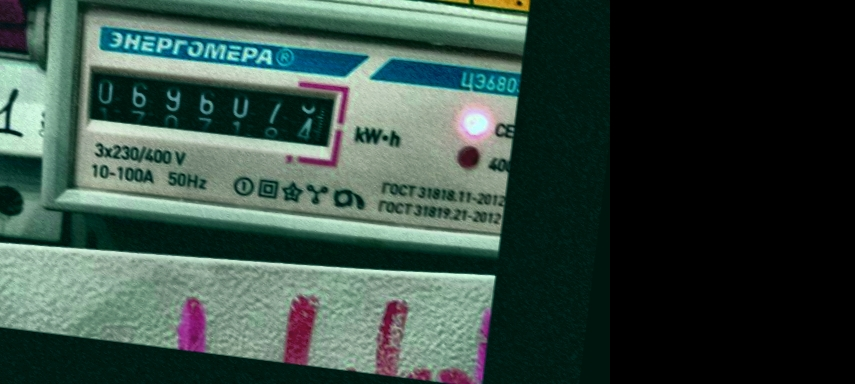0: (229, 89, 251, 121), (95, 76, 115, 106)
4: (294, 112, 314, 143)
6: (196, 86, 217, 117), (129, 79, 149, 109)
7: (262, 94, 285, 127)
9: (161, 84, 183, 114)
screen: (69, 50, 354, 167)
